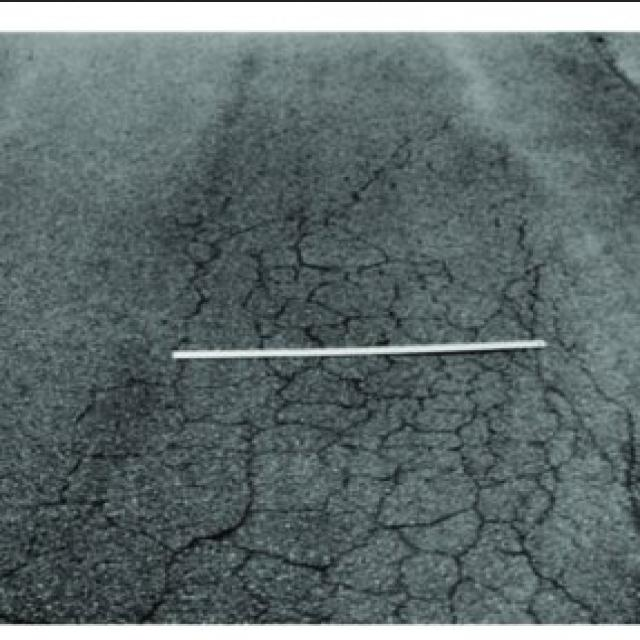Drain Hole: (230, 253, 631, 594)
